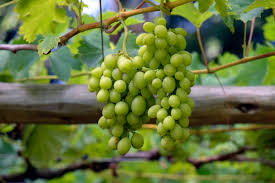grapes: (140, 13, 200, 140), (91, 49, 154, 155)
